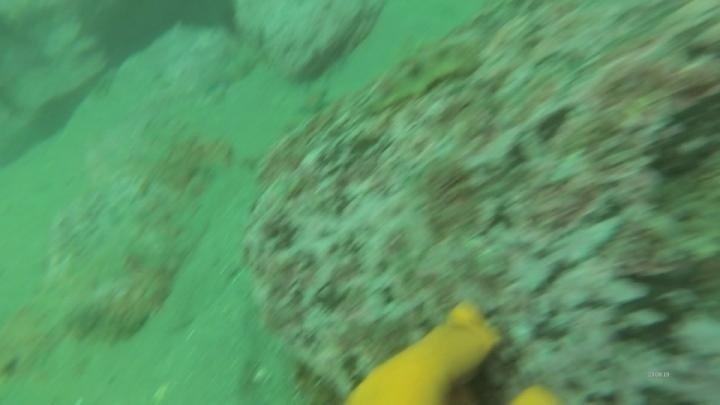holothurian: (368, 36, 484, 115), (197, 28, 266, 102)
starfish: (292, 83, 332, 119)
